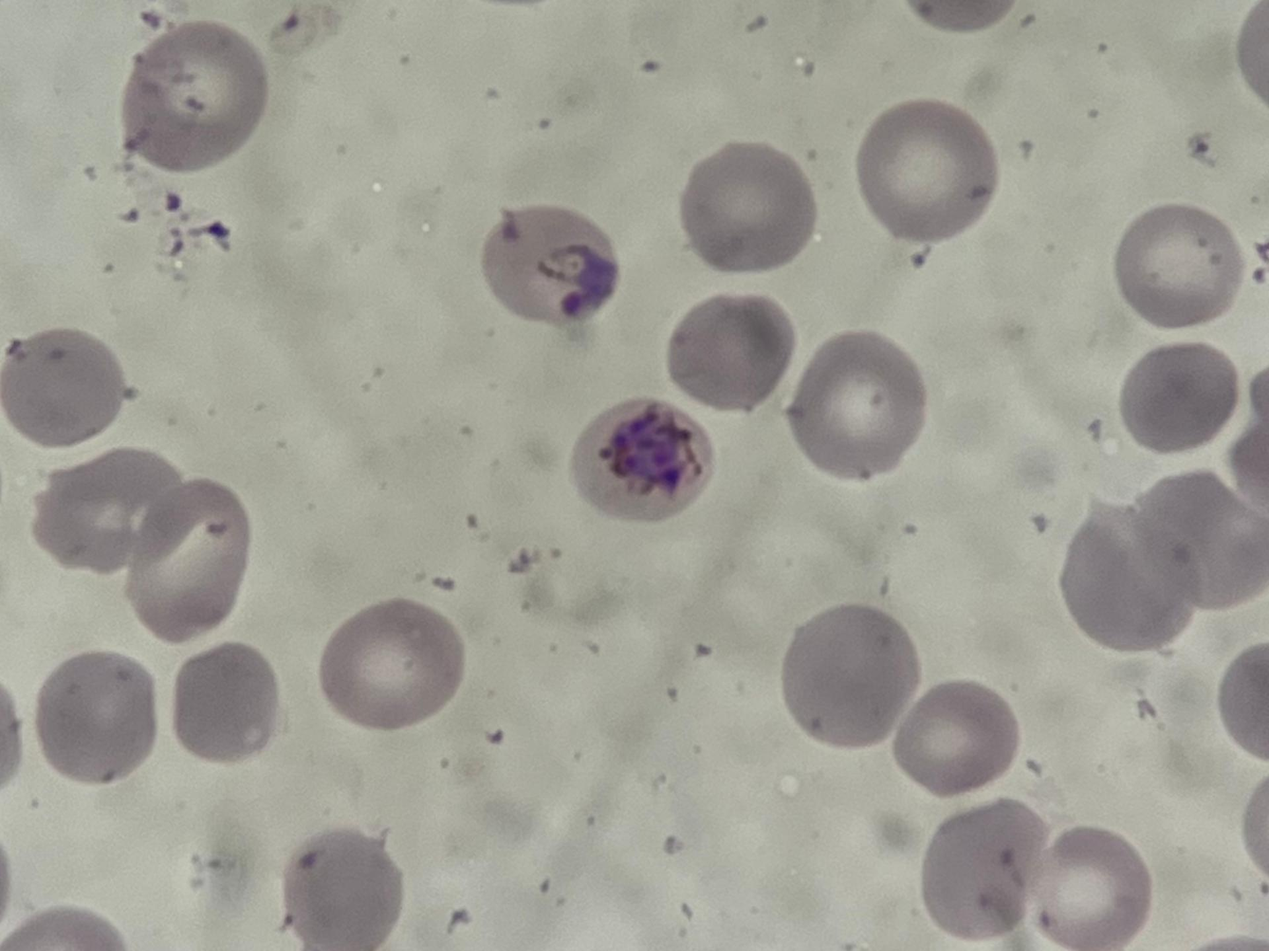Infected: (564, 397, 717, 524), (478, 206, 620, 326)
Uninfected: (115, 23, 270, 176), (1061, 494, 1200, 650), (857, 98, 1000, 245), (313, 600, 463, 730), (784, 609, 921, 747), (132, 474, 242, 642), (670, 142, 814, 270), (793, 333, 921, 470), (37, 450, 178, 574), (916, 803, 1046, 937), (1141, 472, 1269, 605), (1108, 210, 1240, 334), (37, 653, 156, 790), (665, 296, 792, 415), (890, 684, 1018, 799), (282, 825, 398, 951), (4, 331, 126, 446), (1121, 340, 1234, 464), (1040, 829, 1152, 951), (176, 640, 275, 769)
